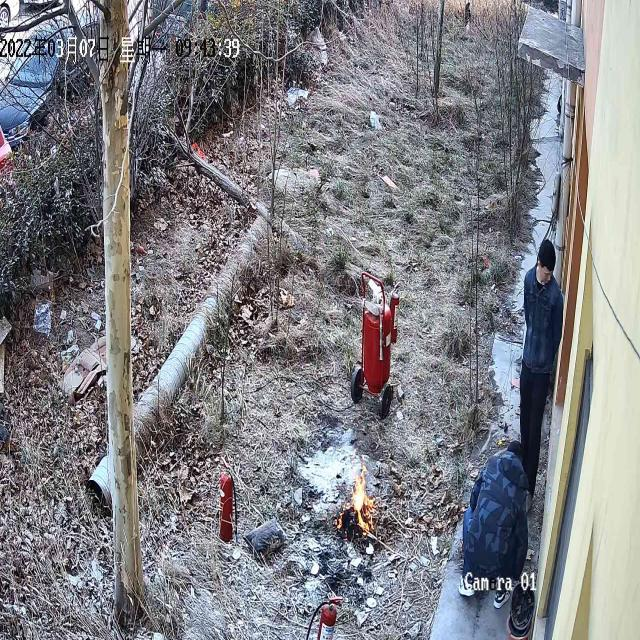Fire: (337, 454, 379, 550)
